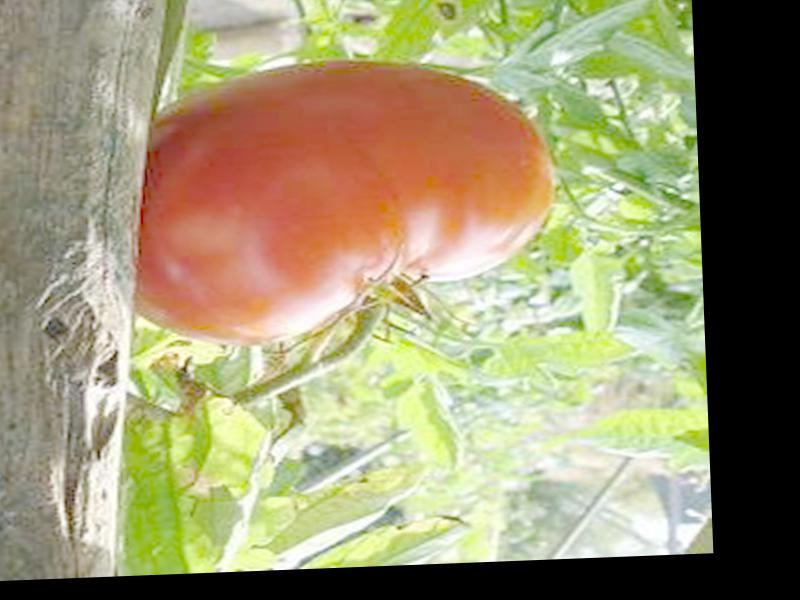Tomato: (119, 55, 561, 350)
